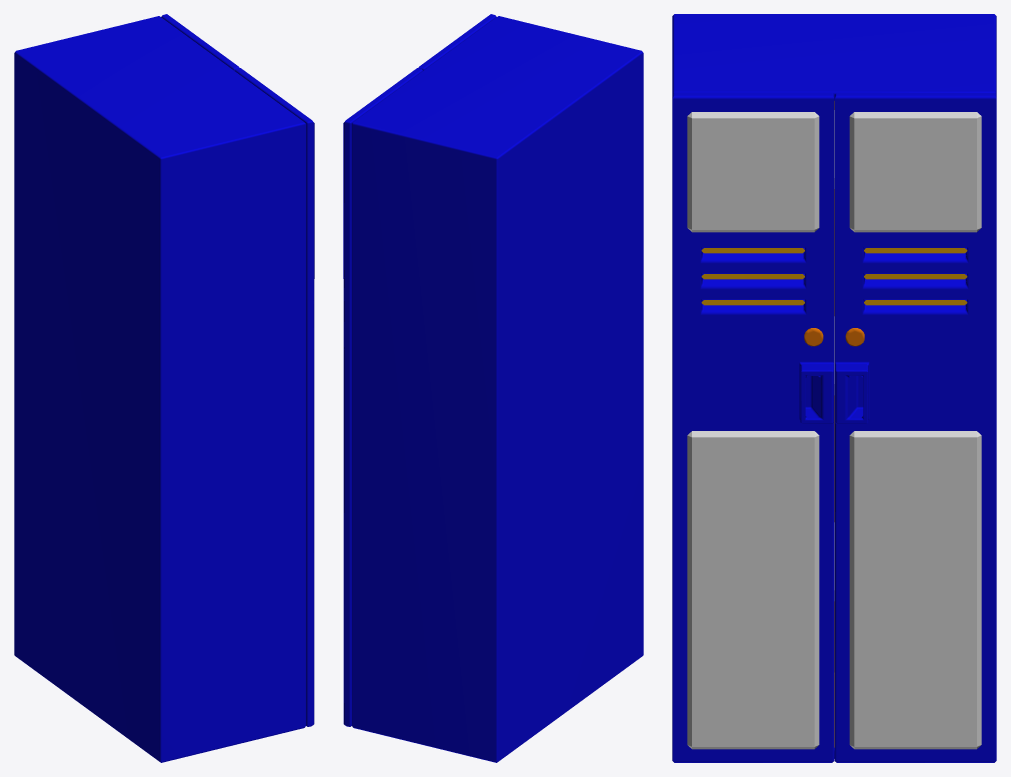
Rendered from SM_VerticalStorageLocker.fbx.
The picture shows the model from 3 angles, left to right: view 1: azimuth 30°, elevation 25°; view 2: azimuth 150°, elevation 25°; view 3: azimuth 270°, elevation 25°; orthographic projection. The views are drawn at different scales.
Parts seen in each view (by area): view 1: Vertical Locker Base, Vertical Locker Door LEFT; view 2: Vertical Locker Base, Vertical Locker Door LEFT; view 3: Door Plating, Vertical Locker Door LEFT, Vertical Locker Base.
Part boxes in pixels (left/top/right/bottom): Vertical Locker Base: left=14, top=16, right=306, bottom=762; Vertical Locker Door LEFT: left=161, top=14, right=314, bottom=726; Vertical Locker Base: left=351, top=16, right=643, bottom=762; Vertical Locker Door LEFT: left=343, top=14, right=496, bottom=726; Door Plating: left=687, top=112, right=981, bottom=749; Vertical Locker Door LEFT: left=672, top=93, right=996, bottom=762; Vertical Locker Base: left=672, top=14, right=996, bottom=758.
Bounding box in the file's own units: 46.96 × 71.29 × 162.
